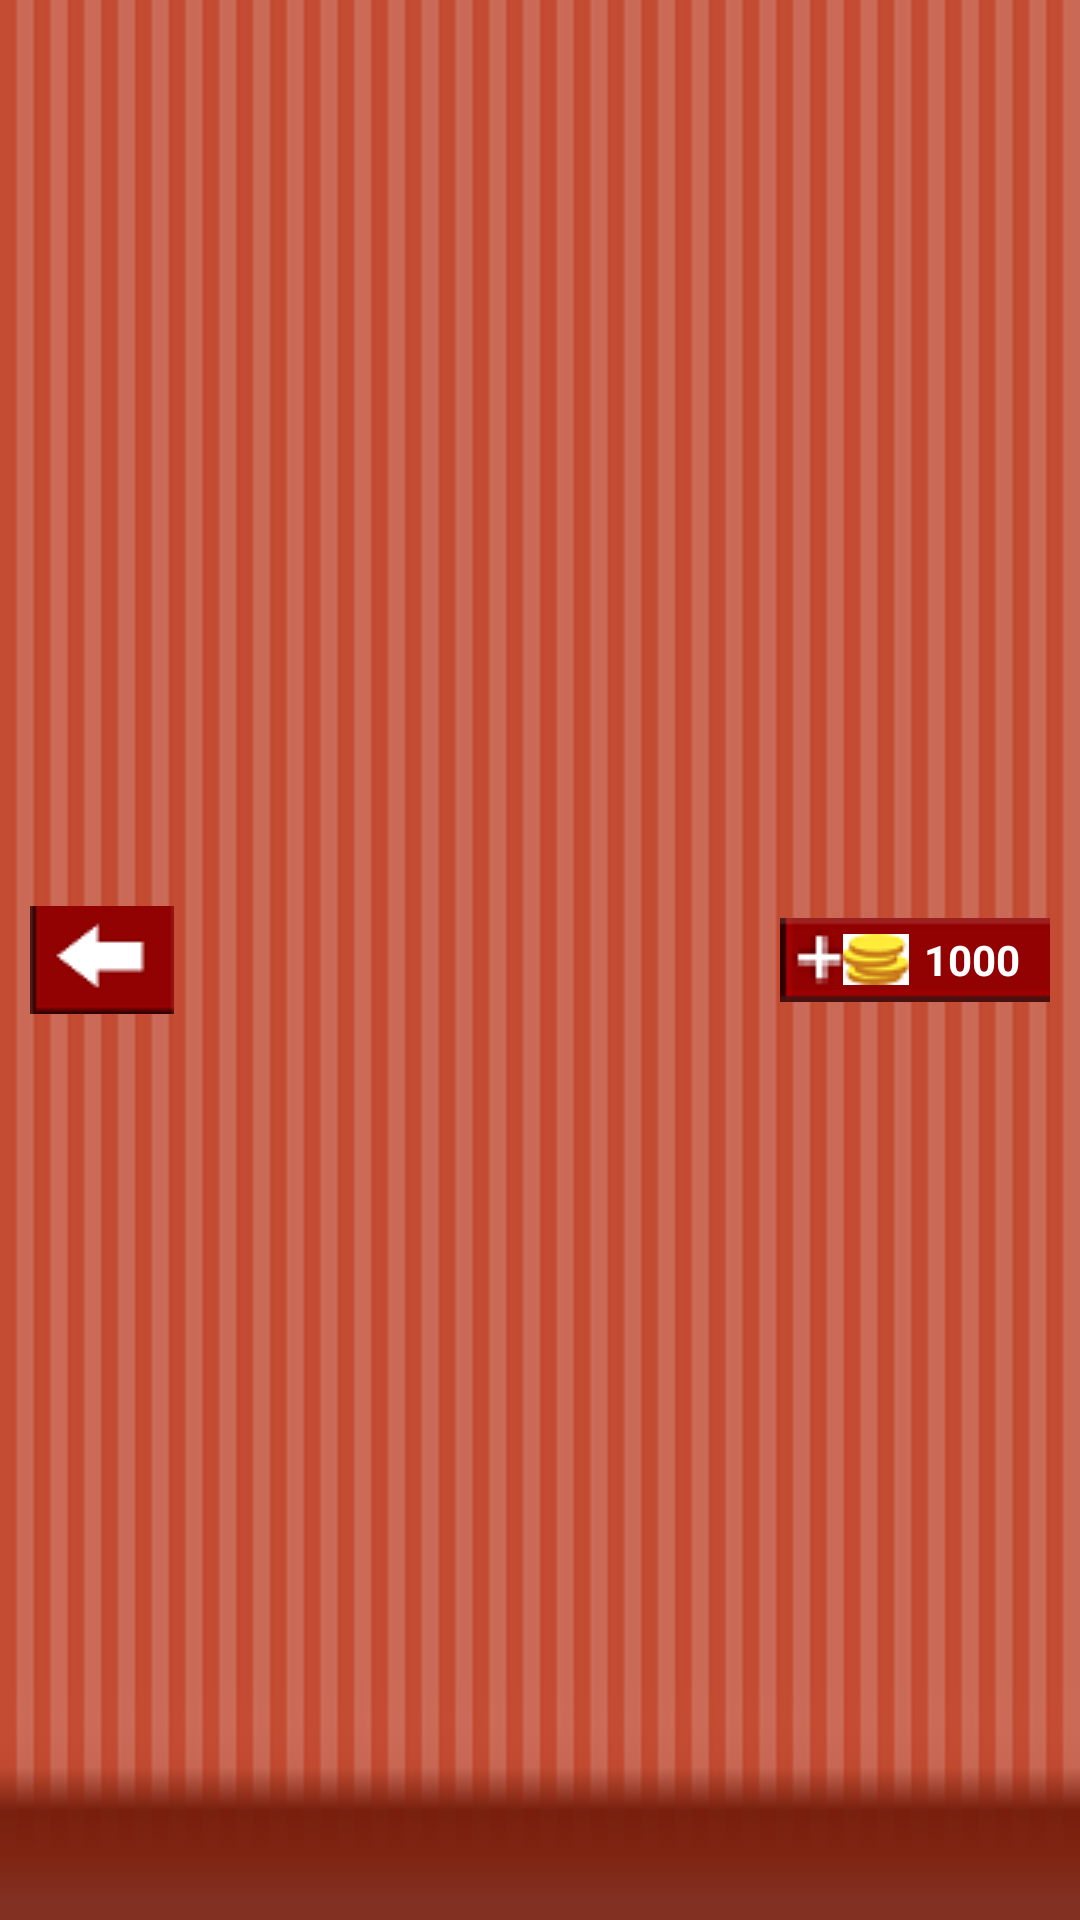

Point at icon controls on the screen. Image size 1080w x 1920h, points as [x,y].
game coin: [876,959]
